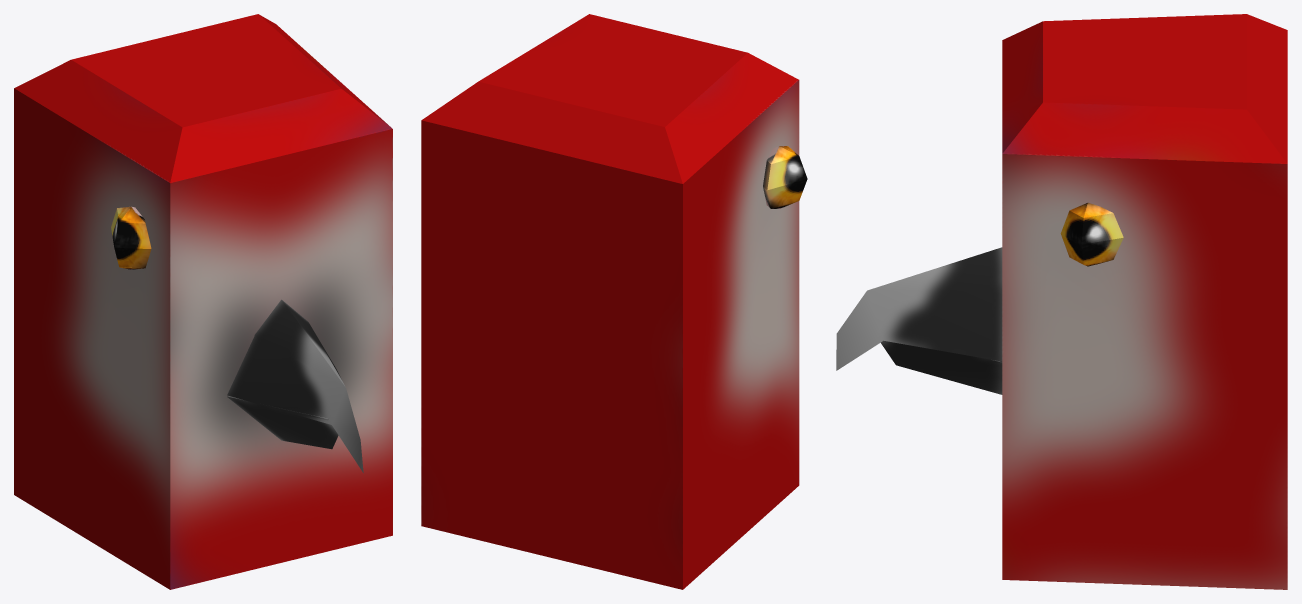
The model's file is Loro_cabeza (2).fbx.
3 views of the same model, side by side, from view 1: azimuth 30°, elevation 25°; view 2: azimuth 150°, elevation 25°; view 3: azimuth 270°, elevation 25° (orthographic). The views are drawn at different scales.
Parts seen in each view (by area): view 1: Loro_Cabeza; view 2: Loro_Cabeza; view 3: Loro_Cabeza.
Boxes of the visible parts, box(x1,y1,x2,y2) form: Loro_Cabeza: box(14, 14, 392, 589); Loro_Cabeza: box(421, 14, 807, 589); Loro_Cabeza: box(836, 14, 1287, 589).
Size of the model in its own units: 2.56 by 3.85 by 3.41.
